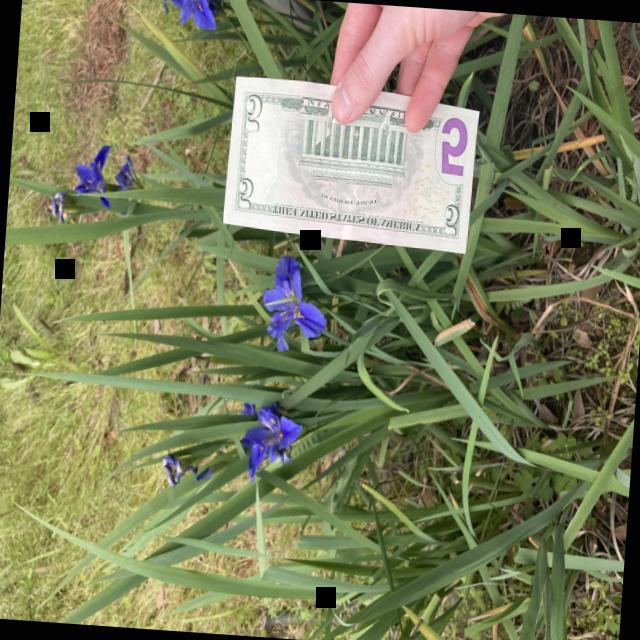five: (221, 74, 480, 255)
